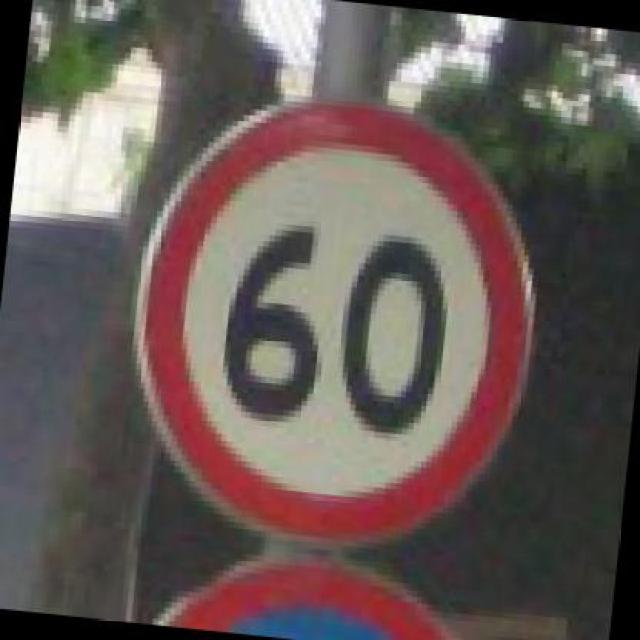Limite-60: (132, 97, 536, 548)
